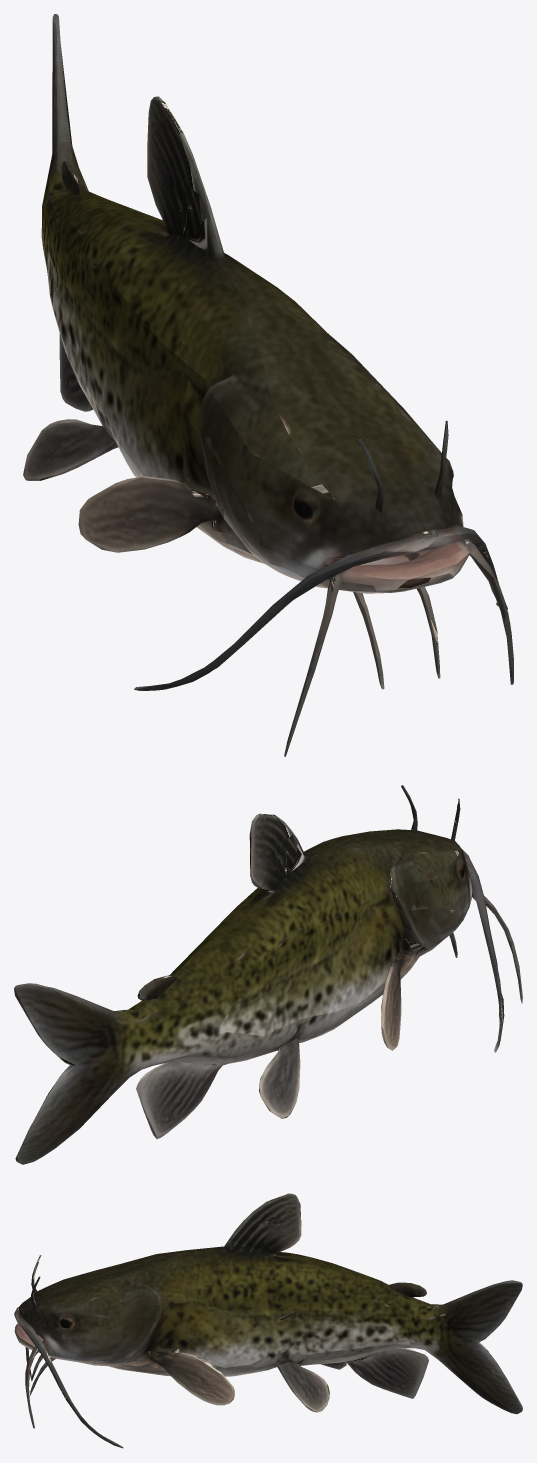
Rendered from kedi.glb.
3 views of the same model, one above another, from view 1: azimuth 30°, elevation 25°; view 2: azimuth 150°, elevation 25°; view 3: azimuth 270°, elevation 25° (orthographic). The views are drawn at different scales.
Visible parts, largest first — view 1: world; view 2: world; view 3: world.
Part boxes in pixels (x1,y1,x2,y2): world: (23, 14, 513, 756); world: (14, 785, 522, 1164); world: (14, 1193, 522, 1448).
Size of the model in its own units: 0.412 by 0.475 by 1.
Materials: 1 (1 with a texture image).
